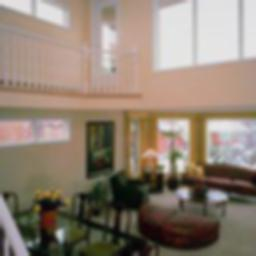Matera: (166, 125, 182, 188)
